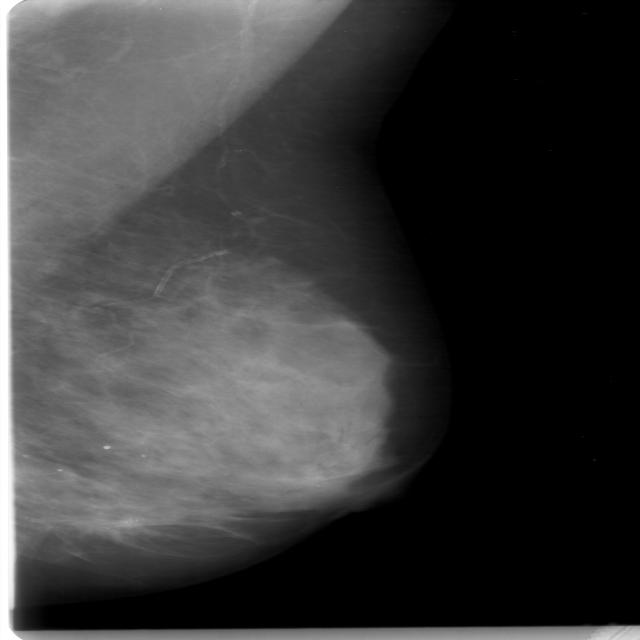cancer: (64, 234, 416, 565)
